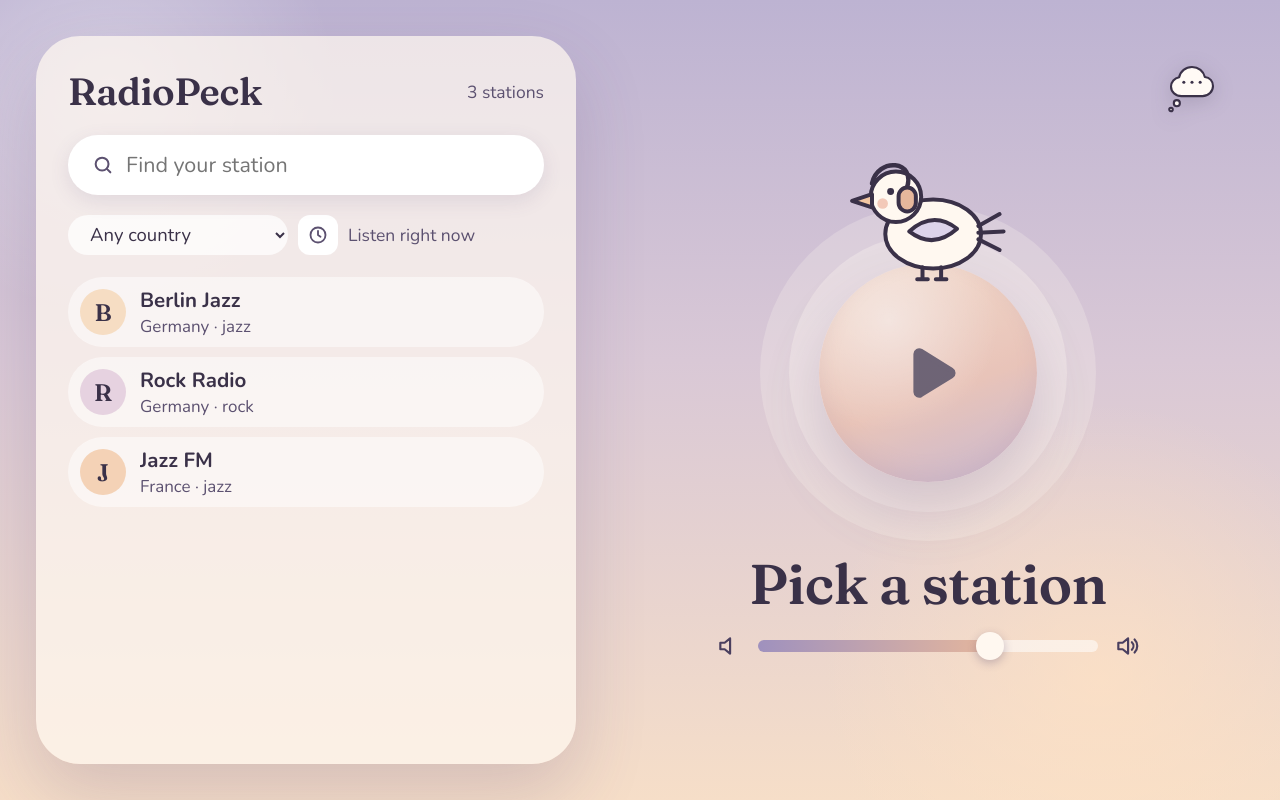
Test case: App › filters the list by country
Select "France" in the dropdown named "Country" at (178, 235), box [68, 215, 288, 255]
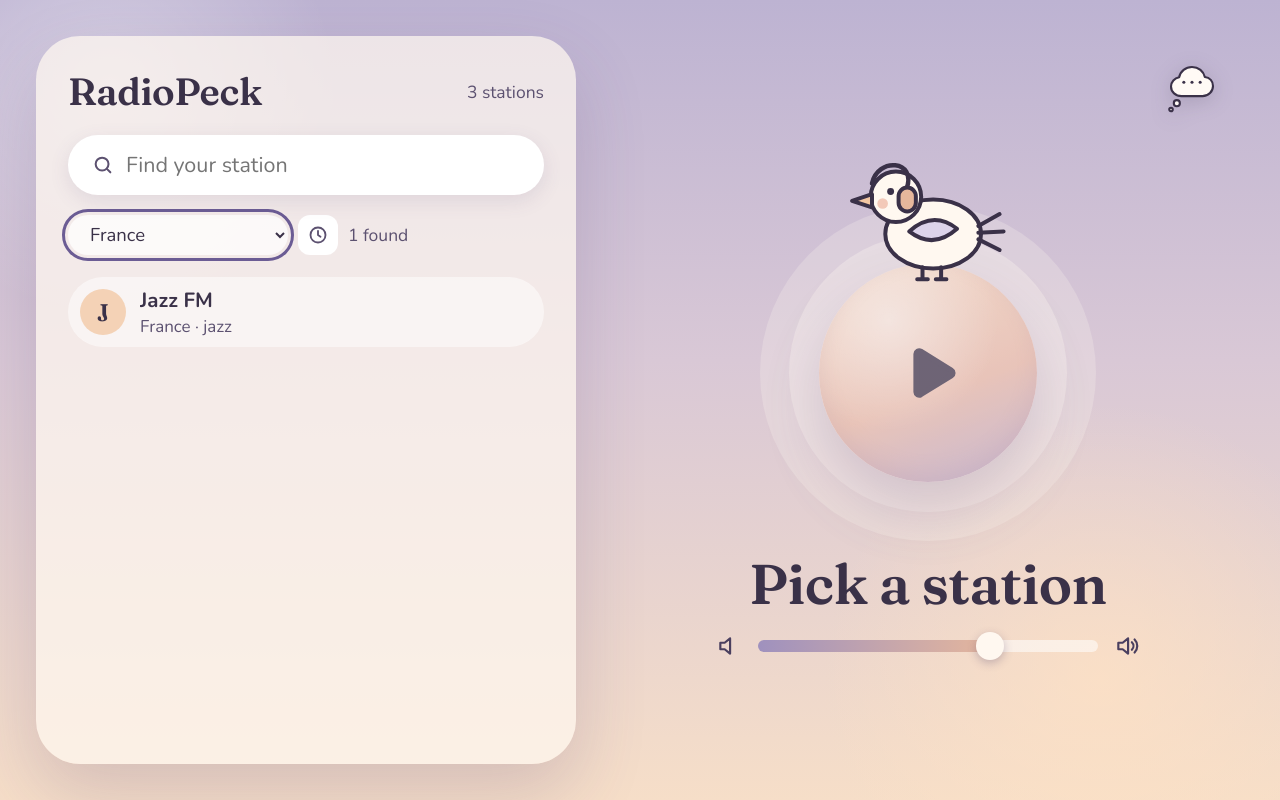
expect the button "Rock Radio" is gone: met
expect the button "Berlin Jazz" is gone: met
expect the text "1 found" is shown: met, box [348, 223, 408, 247]
